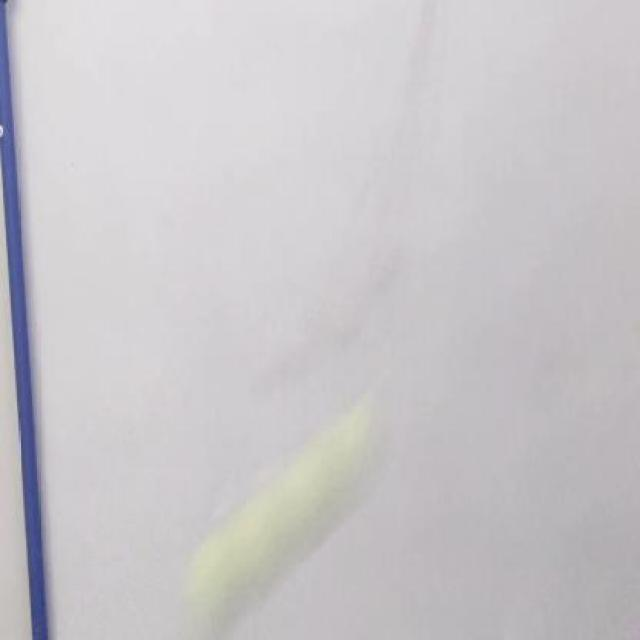baseball: (174, 435, 381, 619)
